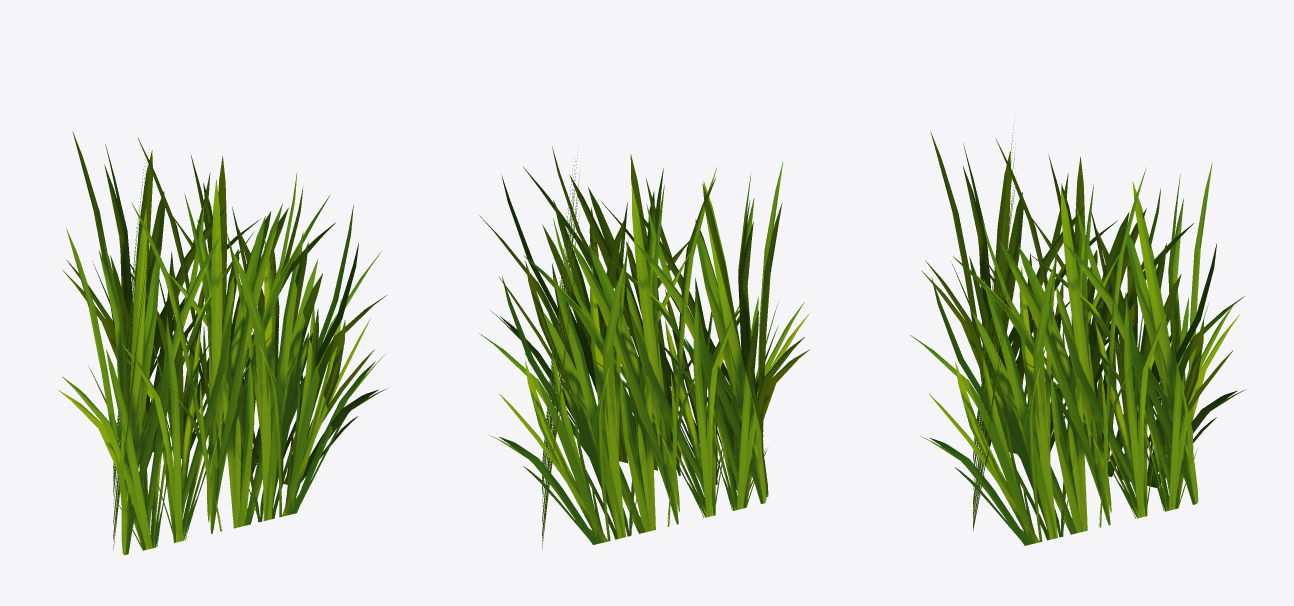
Rendered from grass-model.fbx.
3 views of the same model, side by side, from view 1: azimuth 30°, elevation 25°; view 2: azimuth 150°, elevation 25°; view 3: azimuth 270°, elevation 25° (orthographic).
Parts seen in each view (by area): view 1: Grass; view 2: Grass; view 3: Grass.
Boxes of the visible parts, x1=… form: Grass: x1=58, y1=131, x2=387, y2=555; Grass: x1=479, y1=146, x2=810, y2=549; Grass: x1=910, y1=115, x2=1245, y2=545.
Size of the model in its own units: 201 by 200 by 185.
1 material, 1 textured.
